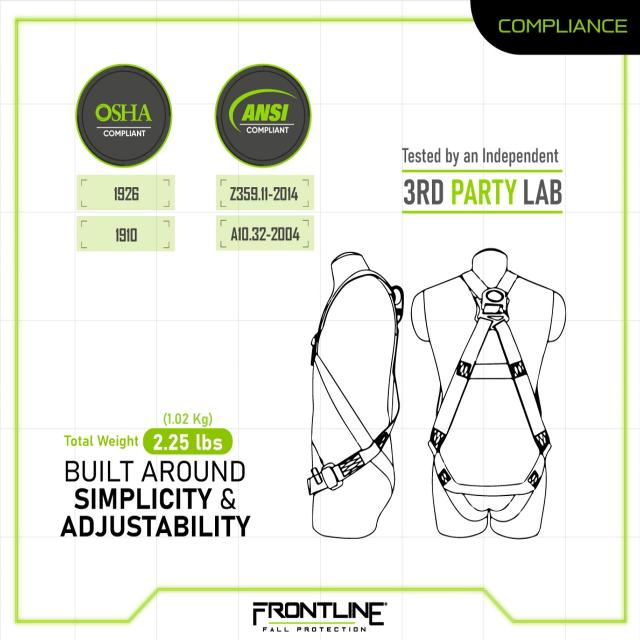Harness: (428, 277, 550, 527), (308, 266, 406, 513)
